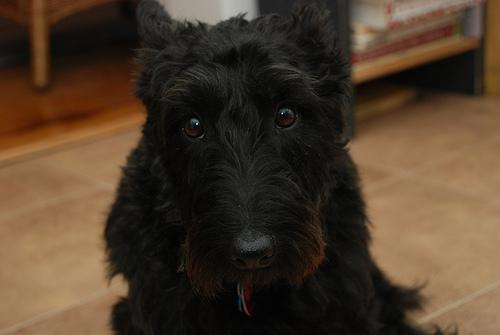dog-scottish_terrier: (133, 0, 350, 283)
